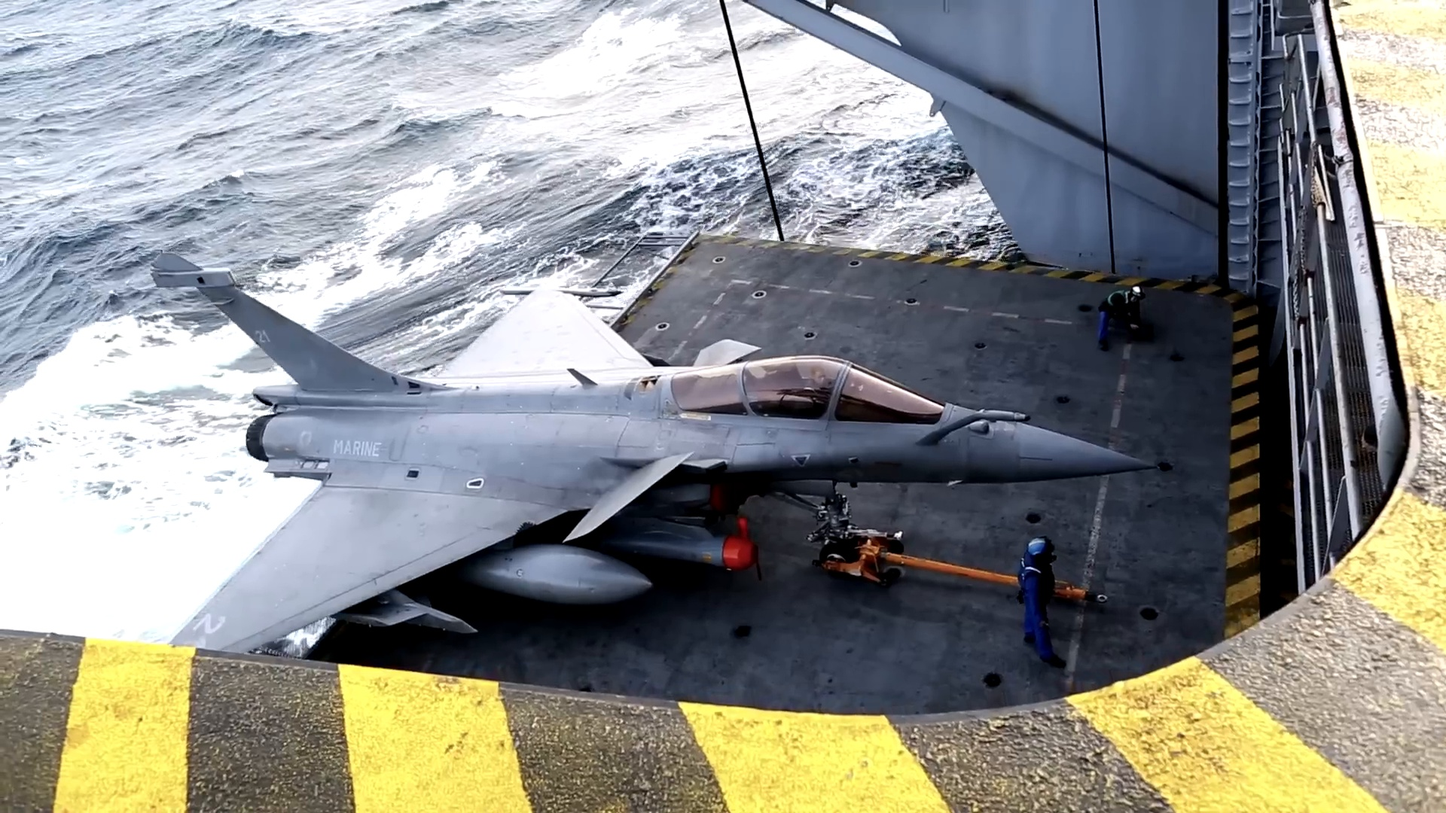Rafale: (150, 252, 1156, 653)
